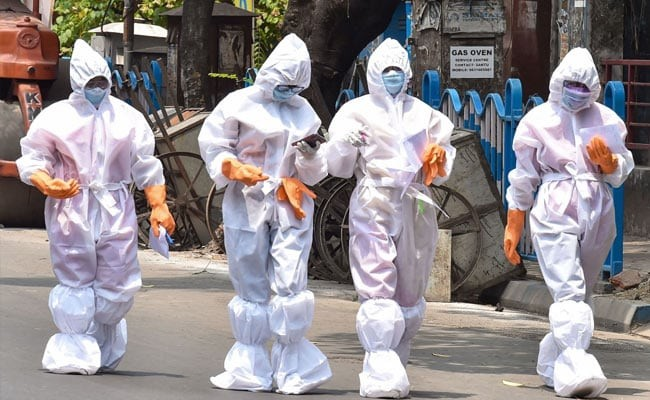Coverall: (13, 36, 167, 378), (196, 33, 332, 393), (326, 37, 453, 400), (505, 45, 634, 400)
Gloves: (273, 178, 317, 224), (142, 184, 177, 240), (26, 169, 82, 201), (583, 133, 619, 178), (500, 207, 527, 266), (219, 159, 272, 189), (421, 144, 450, 191)
Goggles: (82, 77, 110, 90), (275, 86, 303, 93)
with_mask: (561, 79, 593, 115), (379, 66, 406, 98), (84, 77, 109, 107), (273, 84, 302, 103)
